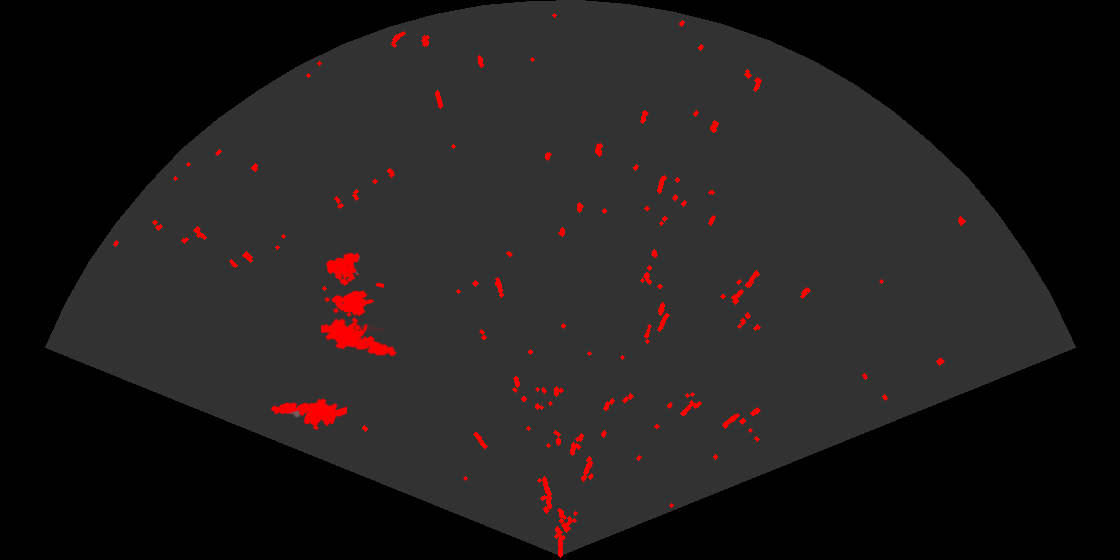cage: (323, 251, 384, 331)
frogman: (321, 315, 397, 358), (269, 397, 347, 432)
